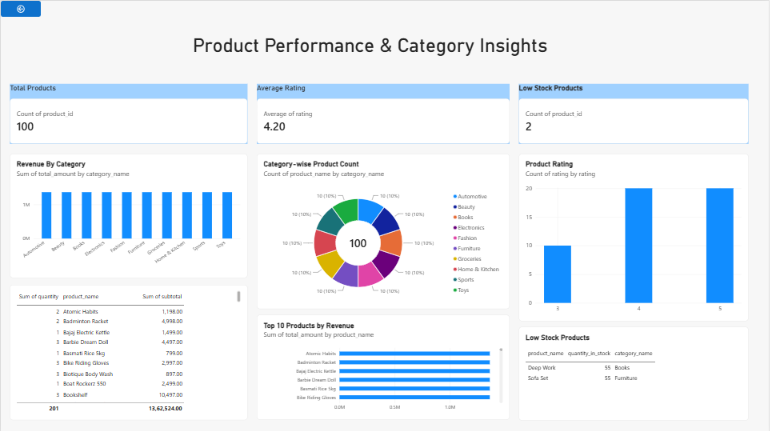

The dashboard page shown, as its layout file describes it:
{"tool":"powerbi","page":{"name":"Product & Category Analysis","canvas":[1920,1080],"ordinal":1},"visuals":[{"type":"clusteredColumnChart","title":"Revenue By Category","fields":{"Category":["ecommerce_analytics categories.category_name"],"Y":["Sum(ecommerce_analytics orders.total_amount)"]},"box":[22,382,594,310],"z":0},{"type":"clusteredBarChart","title":"Top 10 Products by Revenue","fields":{"Category":["ecommerce_analytics products.product_name"],"Y":["Sum(ecommerce_analytics orders.total_amount)"]},"box":[640,786,632,262],"z":1},{"type":"tableEx","title":"Low Stock Products","fields":{"Values":["ecommerce_analytics products.product_name","ecommerce_analytics inventory.quantity_in_stock","ecommerce_analytics categories.category_name"]},"box":[1296,814,574,234],"z":2},{"type":"actionButton","box":[0,0,100,40],"z":3},{"type":"donutChart","title":"Category-wise Product Count","fields":{"Category":["ecommerce_analytics categories.category_name"],"Y":["CountNonNull(ecommerce_analytics products.product_name)"]},"box":[640,382,632,388],"z":4},{"type":"clusteredColumnChart","title":"Product Rating","fields":{"Category":["ecommerce_analytics reviews.rating"],"Y":["CountNonNull(ecommerce_analytics reviews.rating)"]},"box":[1296,382,574,418],"z":5},{"type":"tableEx","fields":{"Values":["Sum(ecommerce_analytics order_items.quantity)","ecommerce_analytics products.product_name","Sum(ecommerce_analytics order_items.subtotal)"]},"box":[22,710,594,338],"z":6},{"type":"cardVisual","title":"Total Products","fields":{"Data":["CountNonNull(ecommerce_analytics products.product_id)"]},"box":[22,208,594,150],"z":7},{"type":"cardVisual","title":"Average Rating","fields":{"Data":["Avg(ecommerce_analytics reviews.rating)"]},"box":[640,208,632,150],"z":8},{"type":"cardVisual","title":"Low Stock Products","fields":{"Data":["CountNonNull(ecommerce_analytics inventory.product_id)"]},"box":[1296,208,574,150],"z":9},{"type":"textbox","box":[480,82,932,126],"z":10}]}

Visuals, with their boxes in screenshot pixels (x1, y1, x2, y2), scaled from the page's 1920x1080 canvas onto the 770x431 screenshot:
"Revenue By Category" clusteredColumnChart: 9:152:247:276
"Top 10 Products by Revenue" clusteredBarChart: 257:314:510:418
"Low Stock Products" tableEx: 520:325:750:418
actionButton: 0:0:40:16
"Category-wise Product Count" donutChart: 257:152:510:307
"Product Rating" clusteredColumnChart: 520:152:750:319
tableEx - Sum(ecommerce_analytics order_items.quantity) x ecommerce_analytics products.product_name: 9:283:247:418
"Total Products" cardVisual: 9:83:247:143
"Average Rating" cardVisual: 257:83:510:143
"Low Stock Products" cardVisual: 520:83:750:143
textbox: 192:33:566:83
